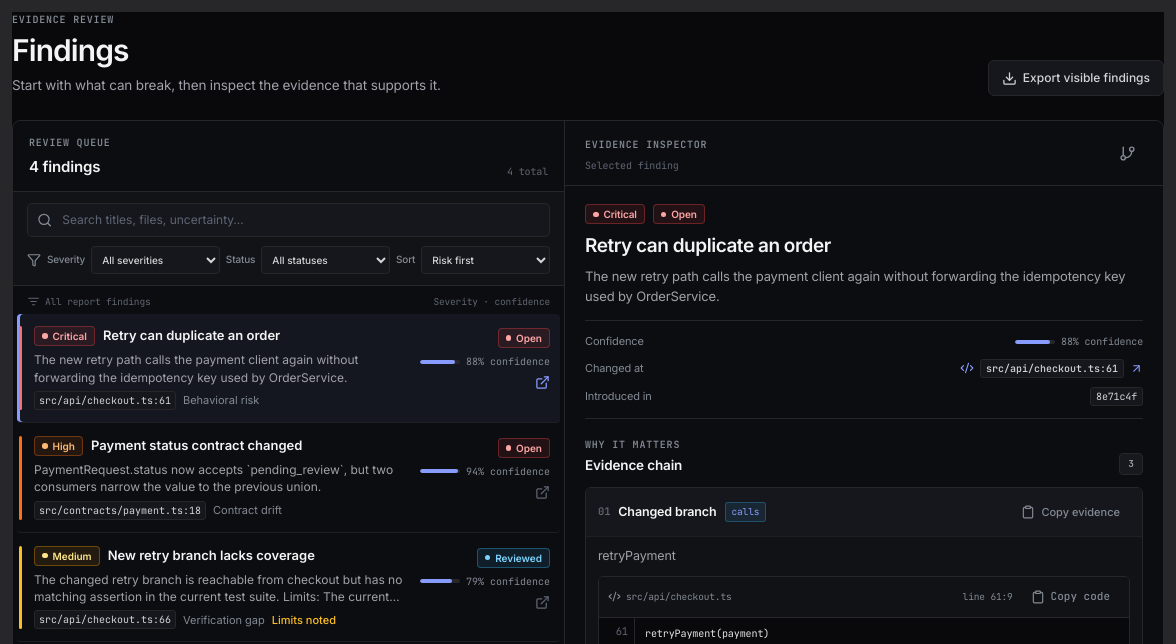
Test: dashboard components › shows the empty state when filters have no match
Step 1. Type "no such finding" into the field named "Search findings" → (300, 220), box [60,210,540,230]
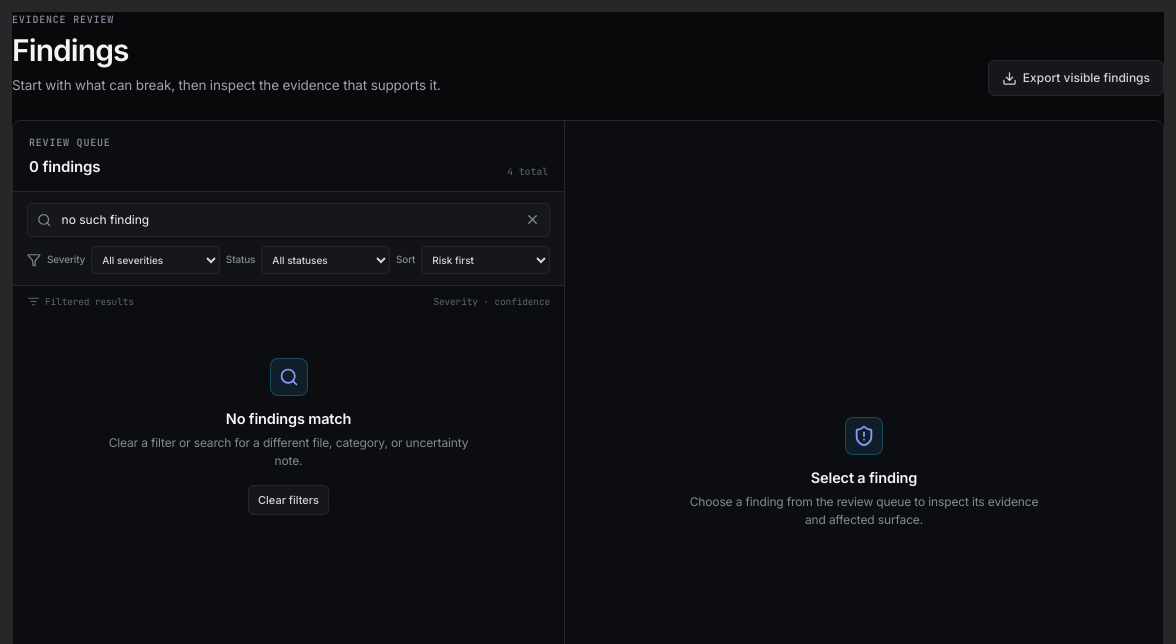
Expected: the heading "No findings match" is shown, [226,408,351,430]
Expected: the button "Clear filters" is shown, [248,485,329,515]
